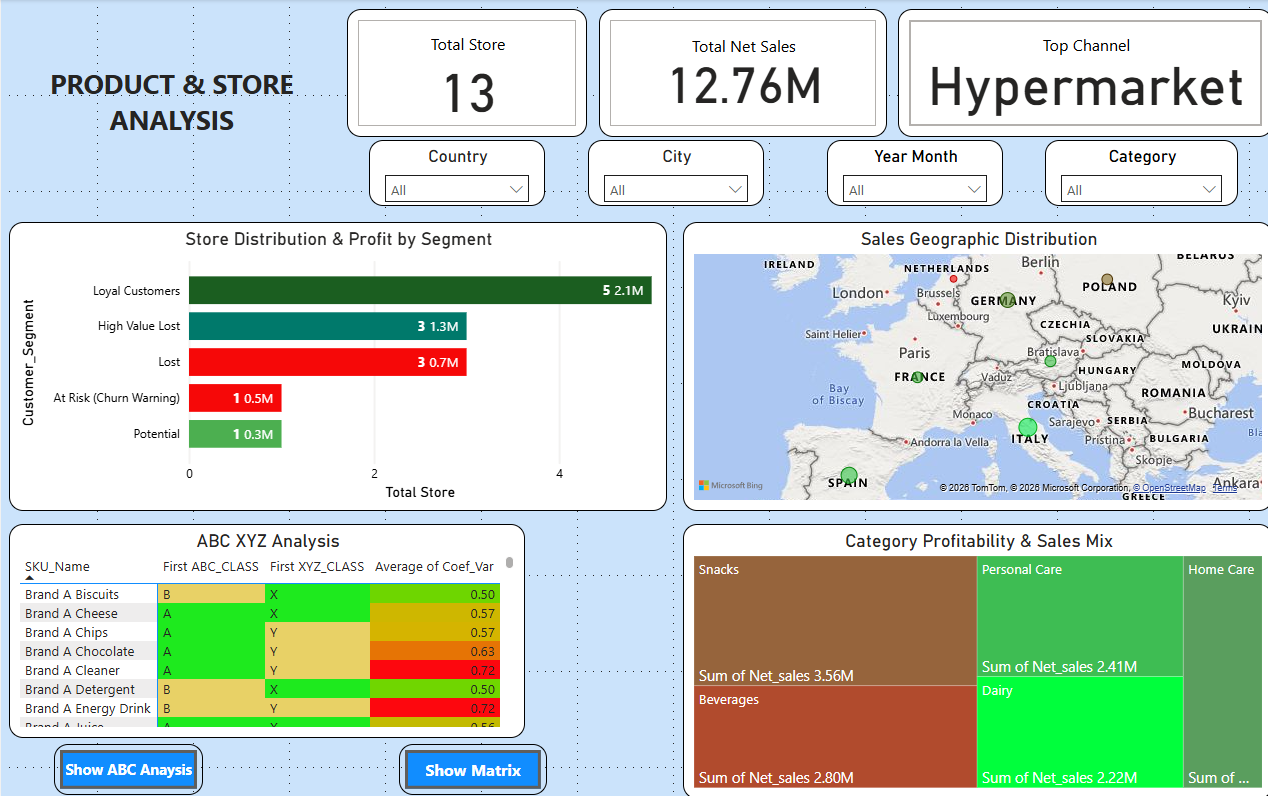

The dashboard page shown, as its layout file describes it:
{"tool":"powerbi","page":{"name":"Product & Store Analysis","canvas":[1280,800],"ordinal":1},"visuals":[{"type":"cardVisual","fields":{"Data":["measure.Total Store"]},"box":[346.2,10.2,240,128],"z":0},{"type":"cardVisual","fields":{"Data":["Sum(portofolio vw_enriched_sales.Net_sales)"]},"box":[597.8,10.2,288,128],"z":1000},{"type":"cardVisual","fields":{"Data":["measure.Top Channel"]},"box":[897.1,9.9,375.2,128],"z":2000},{"type":"textbox","box":[7.5,9.6,327.5,155.7],"z":3000},{"type":"slicer","title":"Category","fields":{"Values":["portofolio product_masterr.Category"]},"box":[1044.3,140.8,193.1,66.1],"z":4000},{"type":"slicer","title":"Year Month","fields":{"Values":["DateTable.Year Month"]},"box":[825.6,140.8,176,66.1],"z":5000},{"type":"slicer","title":"City","fields":{"Values":["portofolio store_master.city"]},"box":[586.7,140.8,176,66.1],"z":6000},{"type":"slicer","title":"Country","fields":{"Values":["portofolio vw_enriched_sales.country"]},"box":[368,140.8,176,66.1],"z":7000},{"type":"map","title":"Sales Geographic Distribution","fields":{"Category":["portofolio vw_enriched_sales.country"],"Size":["Sum(portofolio vw_enriched_sales.Net_sales)"]},"box":[681.9,222.9,590.3,289.1],"z":8000},{"type":"clusteredBarChart","title":"Store Distribution & Profit by Segment","fields":{"Category":["portofolio vw_rfm_analysis.Customer_Segment"],"Y":["measure.Total Store"]},"box":[7.7,222.9,657.7,289.1],"z":9000},{"type":"pivotTable","title":"ABC XYZ Analysis","fields":{"Rows":["portofolio vw_abc_xyz_analysis.SKU_Name"],"Values":["Min(portofolio vw_abc_xyz_analysis.ABC_CLASS)","Min(portofolio vw_abc_xyz_analysis.XYZ_CLASS)","Avg(portofolio vw_abc_xyz_analysis.Coef_Var)"]},"box":[7.7,525.2,516.4,214.1],"z":10000},{"type":"actionButton","box":[53,744.8,149,50.8],"z":12000},{"type":"actionButton","title":"Show Matrix","box":[398.3,744.8,147.9,50.8],"z":13000},{"type":"treemap","title":"Category Profitability & Sales Mix","fields":{"Group":["portofolio vw_enriched_sales.Category","portofolio vw_enriched_sales.Brand"],"Values":["Sum(portofolio vw_enriched_sales.Net_sales)","measure.GPM %"]},"box":[681.9,525.2,590.3,274.8],"z":14000}]}

Visuals, with their boxes in screenshot pixels (x1, y1, x2, y2), scaled from the page's 1280x800 canvas onto the 1268x796 screenshot:
cardVisual - measure.Total Store: bbox(343, 10, 581, 138)
cardVisual - Sum(portofolio vw_enriched_sales.Net_sales): bbox(592, 10, 877, 138)
cardVisual - measure.Top Channel: bbox(889, 10, 1260, 137)
textbox: bbox(7, 10, 332, 164)
"Category" slicer: bbox(1035, 140, 1226, 206)
"Year Month" slicer: bbox(818, 140, 992, 206)
"City" slicer: bbox(581, 140, 756, 206)
"Country" slicer: bbox(365, 140, 539, 206)
"Sales Geographic Distribution" map: bbox(676, 222, 1260, 509)
"Store Distribution & Profit by Segment" clusteredBarChart: bbox(8, 222, 659, 509)
"ABC XYZ Analysis" pivotTable: bbox(8, 523, 519, 736)
actionButton: bbox(53, 741, 200, 792)
"Show Matrix" actionButton: bbox(395, 741, 541, 792)
"Category Profitability & Sales Mix" treemap: bbox(676, 523, 1260, 795)
